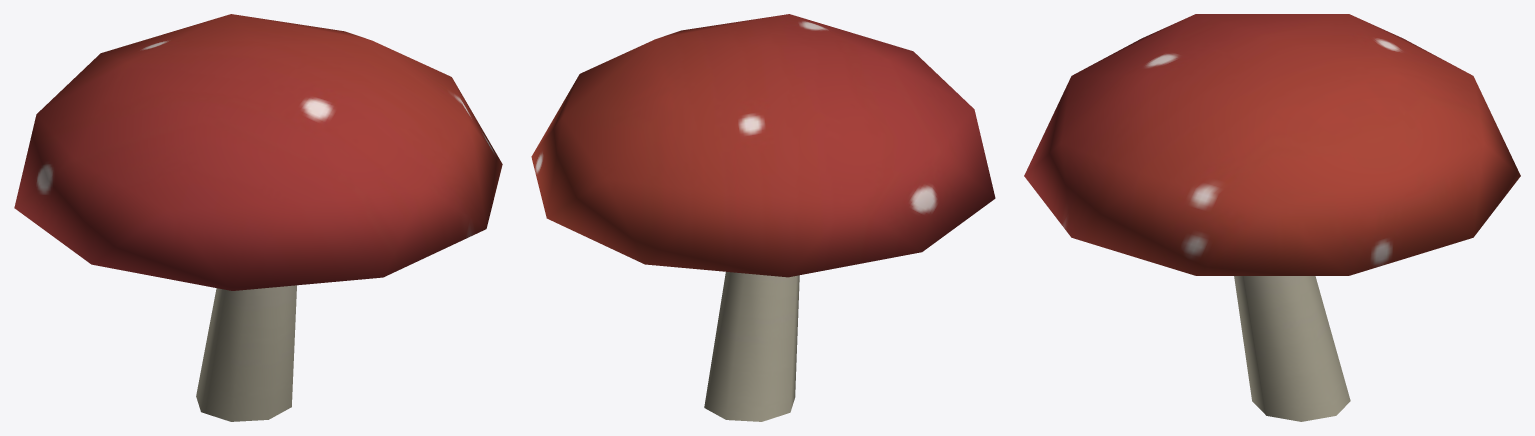
The model's file is tinderfungus_smooth.gltf.
The picture shows the model from 3 angles, left to right: view 1: azimuth 30°, elevation 25°; view 2: azimuth 150°, elevation 25°; view 3: azimuth 270°, elevation 25°; orthographic projection. The views are drawn at different scales.
Parts seen in each view (by area): view 1: FlyAgaric1; view 2: FlyAgaric1; view 3: FlyAgaric1.
Part boxes in pixels (<box>): FlyAgaric1: <box>14,14,502,421</box>; FlyAgaric1: <box>531,14,995,421</box>; FlyAgaric1: <box>1024,14,1520,421</box>.
Bounding box in the file's own units: 1.28 × 1.09 × 1.35.
1 material, 1 textured.
